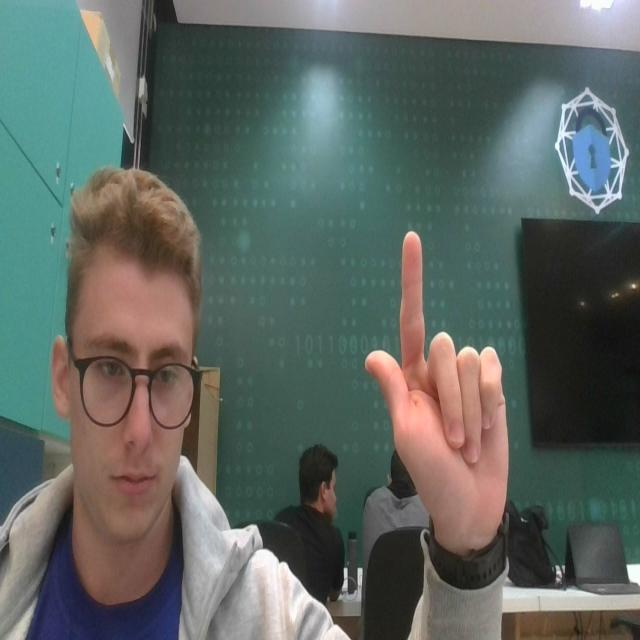G: (362, 206, 512, 542)
